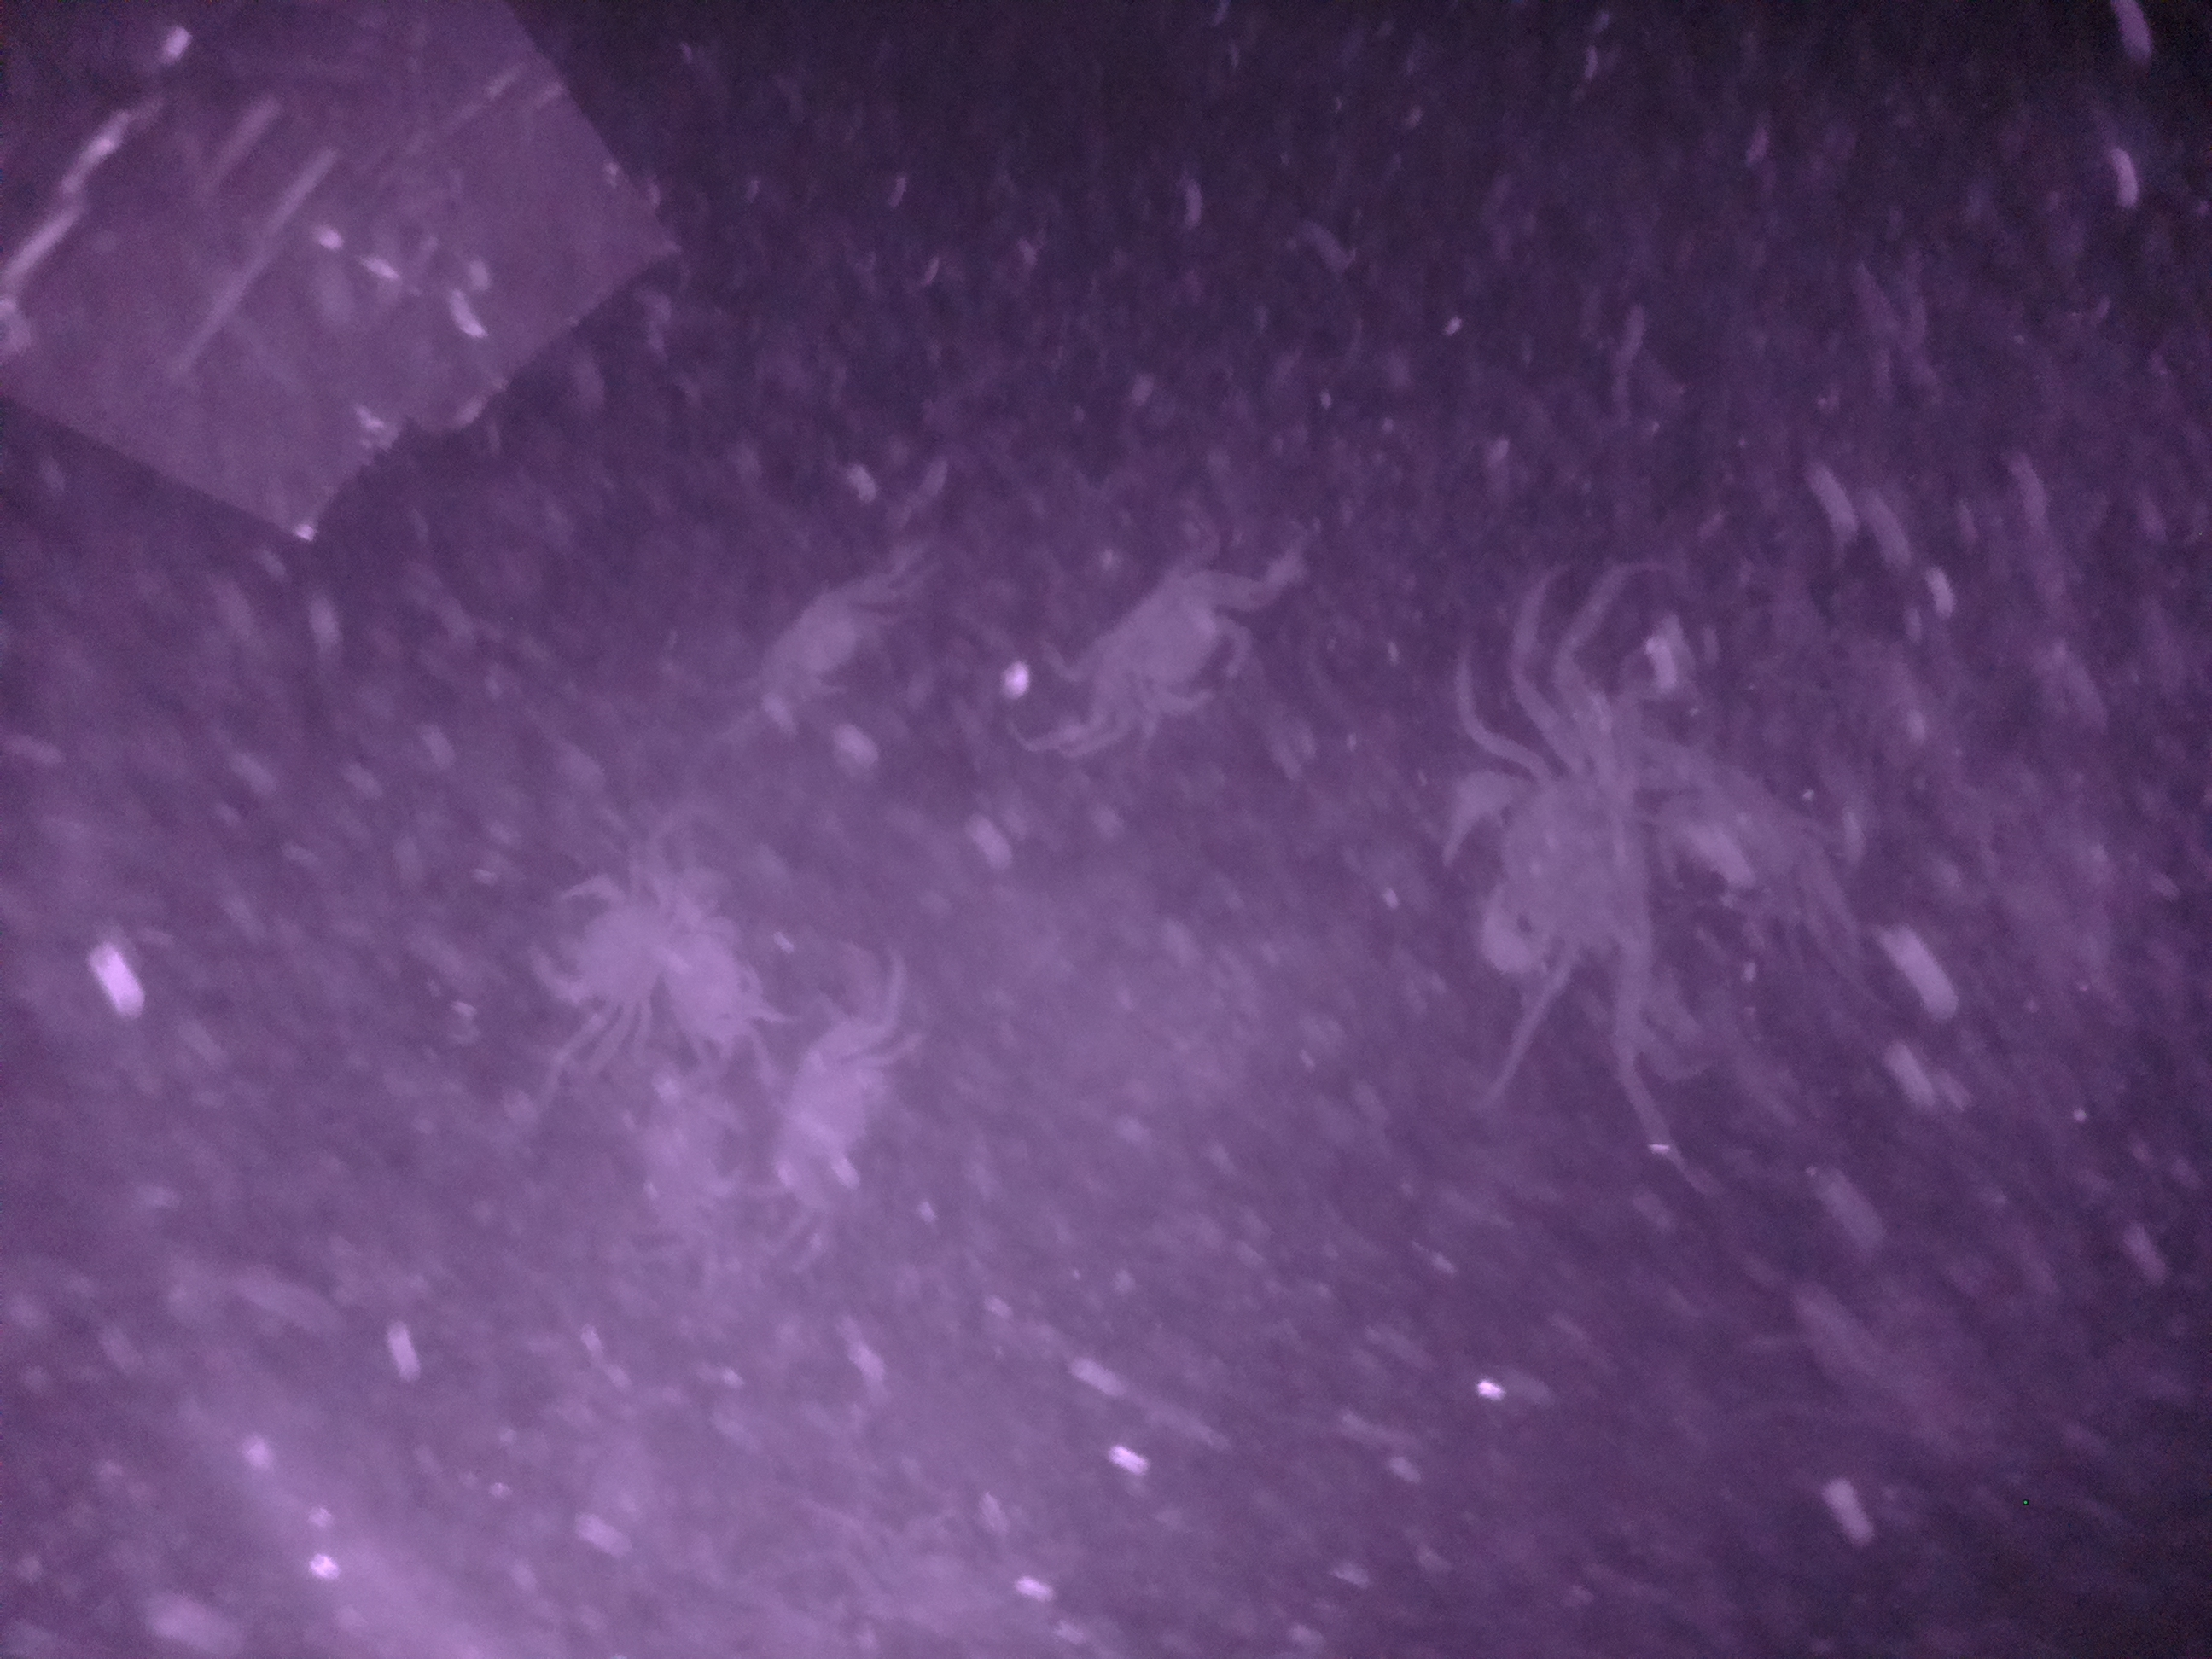Crab: (1432, 704, 1679, 995), (1047, 544, 1285, 755), (531, 852, 681, 1033)
